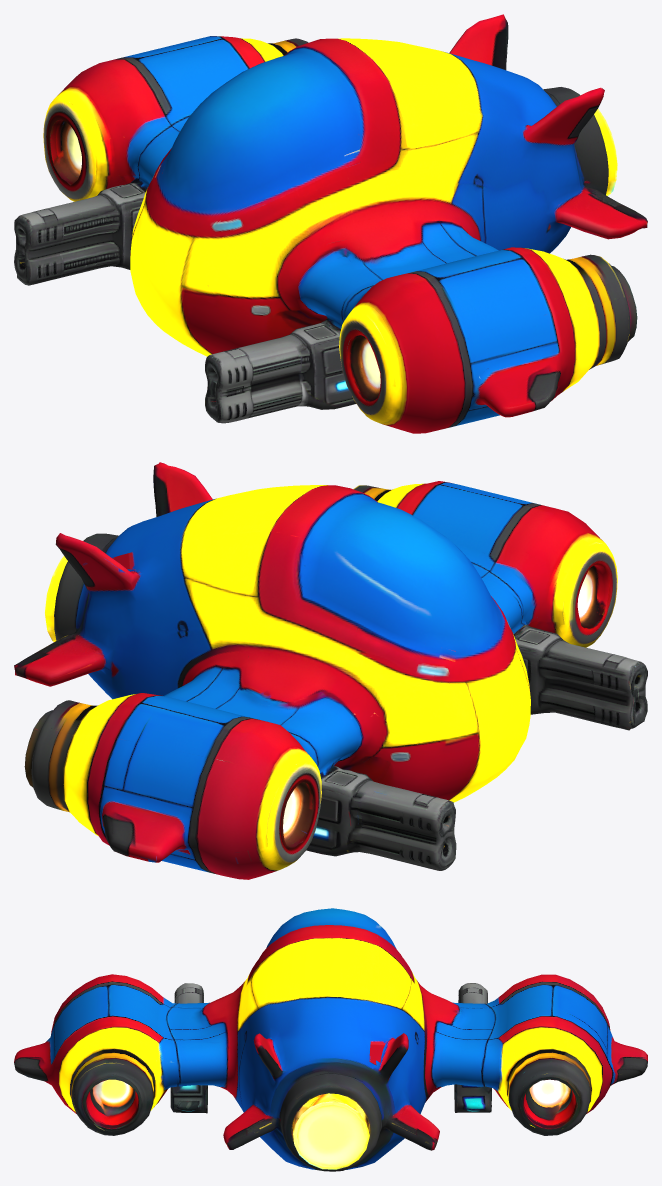
The model's file is Meshy_AI_Rainbow_Starfighter_0709064621_texture.glb.
The picture shows the model from 3 angles, top to bottom: view 1: azimuth 30°, elevation 25°; view 2: azimuth 150°, elevation 25°; view 3: azimuth 270°, elevation 25°; orthographic projection. The views are drawn at different scales.
Visible parts, largest first — view 1: Mesh_0; view 2: Mesh_0; view 3: Mesh_0.
Boxes of the visible parts, x1=… form: Mesh_0: x1=14, y1=14, x2=647, y2=433; Mesh_0: x1=14, y1=462, x2=647, y2=879; Mesh_0: x1=14, y1=908, x2=647, y2=1171.
Bounding box in the file's own units: 1.23 × 0.6965 × 1.91.
1 material, 1 textured.
